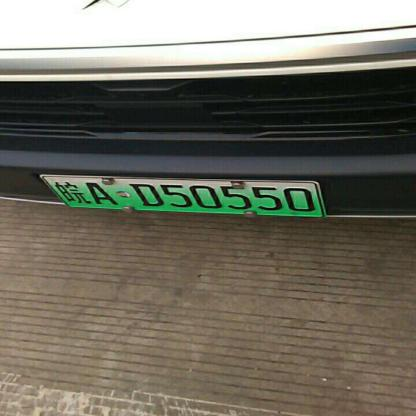lp: (42, 176, 70, 216)
